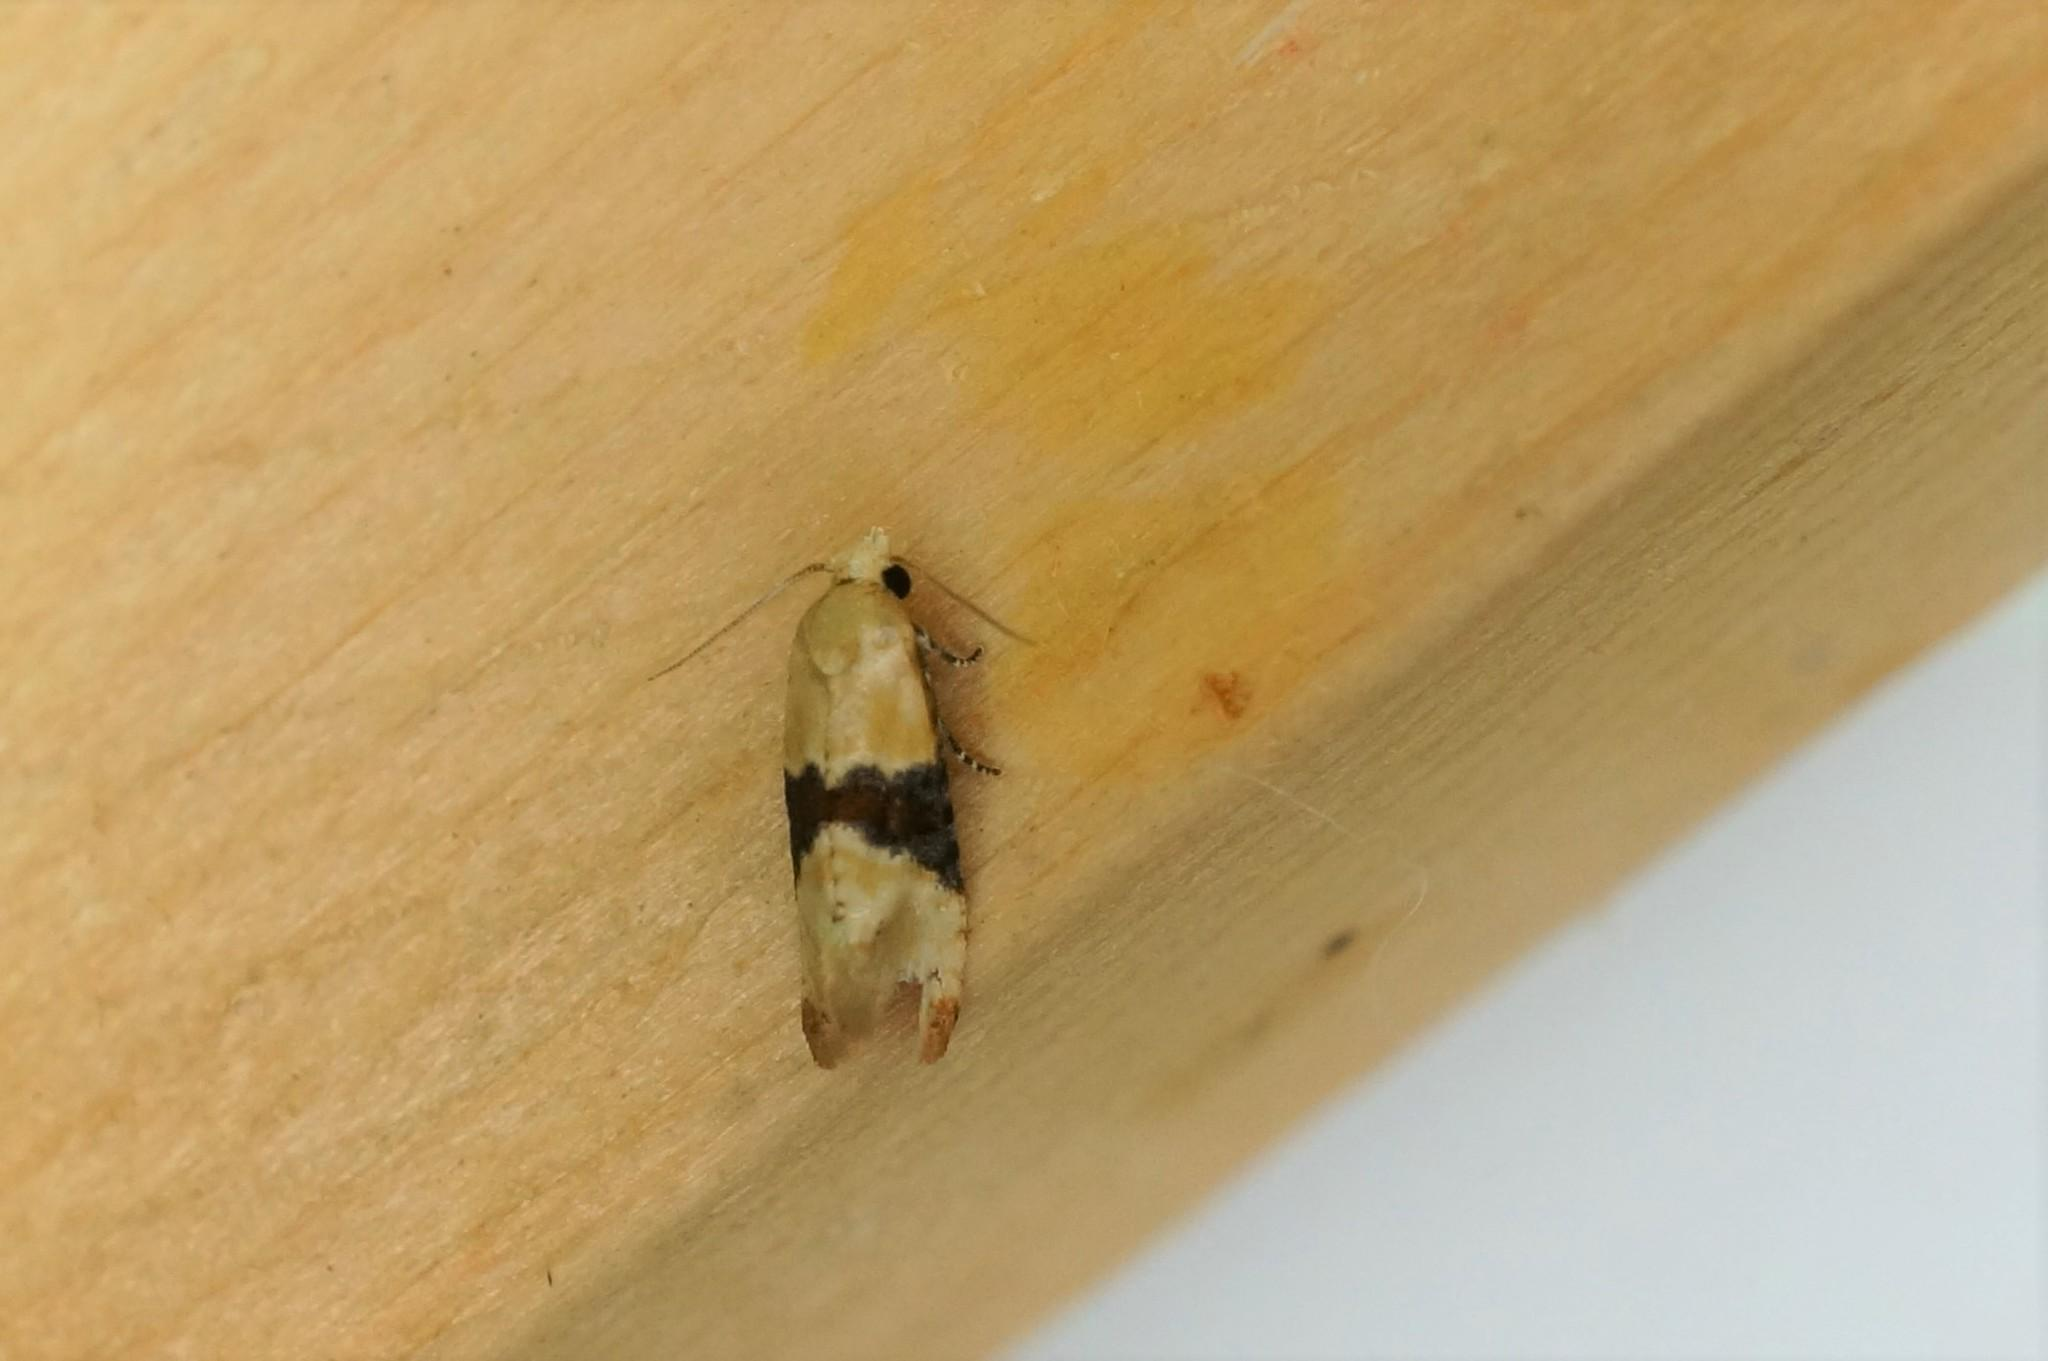Eupoecilia Ambiguella: (644, 519, 1037, 1077)
